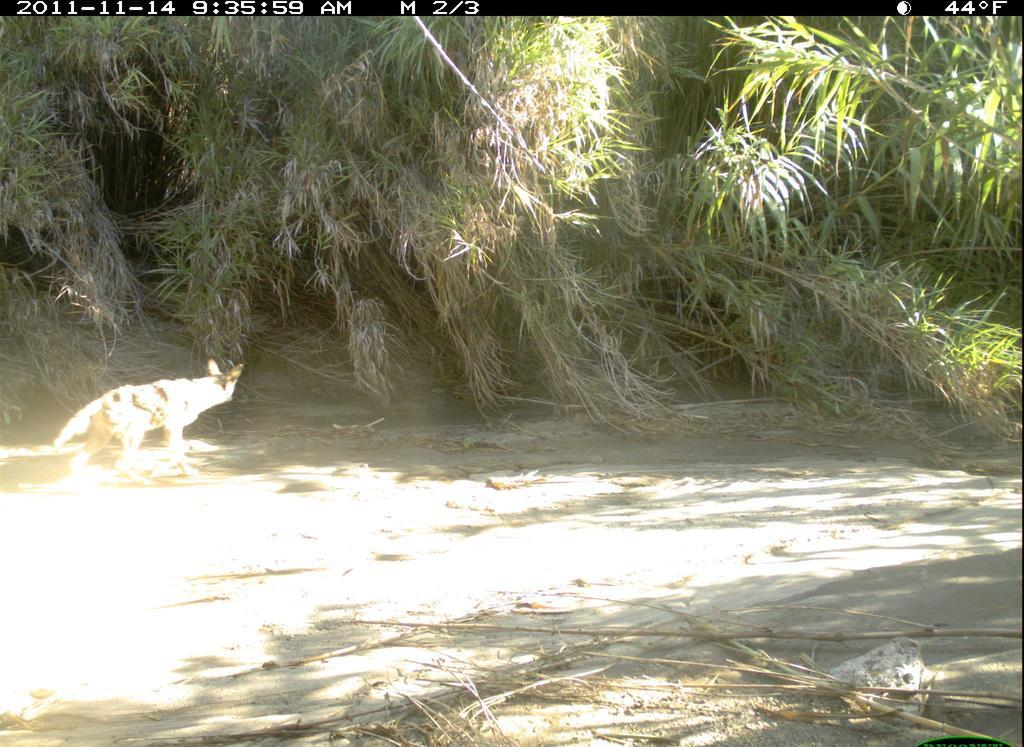coyote: (45, 353, 251, 487)
